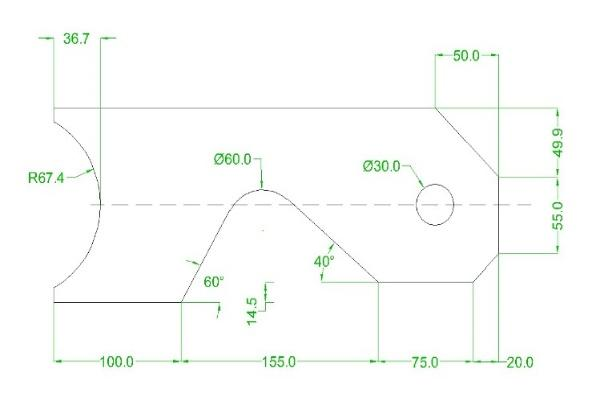dimensions: (17, 166, 72, 193), (354, 152, 408, 179), (546, 120, 572, 164), (57, 26, 100, 50), (258, 348, 299, 372), (542, 198, 570, 232), (503, 348, 536, 373), (212, 150, 257, 168), (98, 349, 136, 370), (445, 44, 482, 65), (407, 349, 441, 371)
